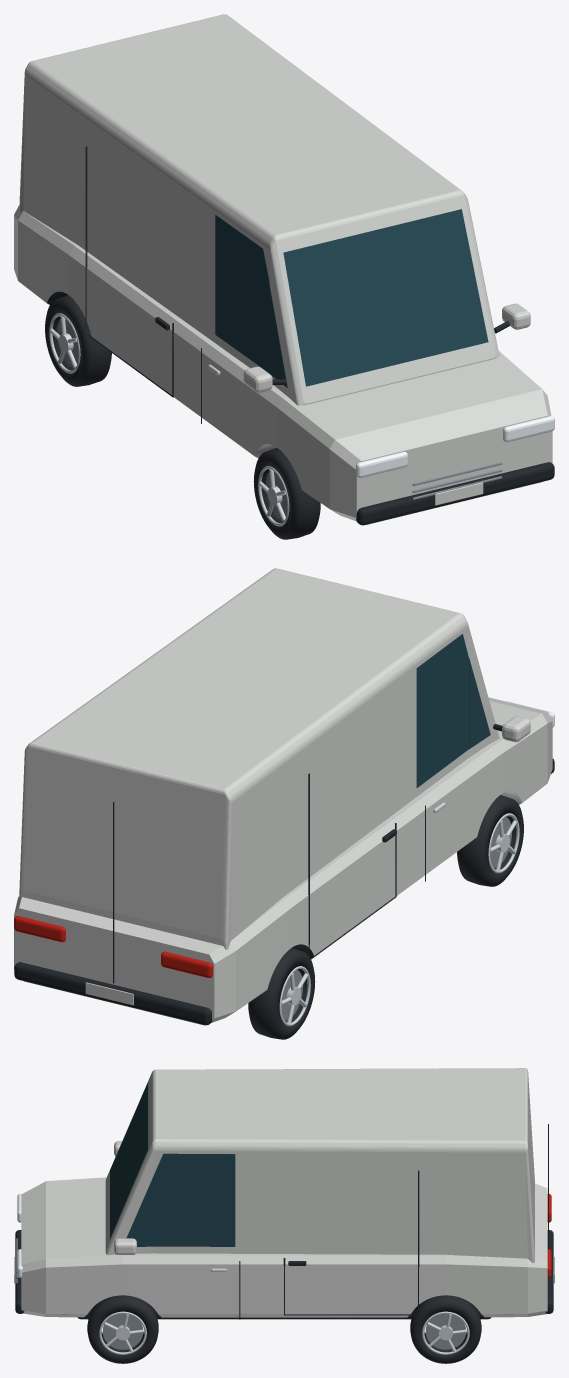
File: delivery-van.glb
3 renders of one model, top to bottom at view 1: azimuth 30°, elevation 25°; view 2: azimuth 150°, elevation 25°; view 3: azimuth 270°, elevation 25°, orthographic. The views are drawn at different scales.
Parts seen in each view (by area): view 1: Cab and roof, Coachwork lower body, Front windscreen, Front side glass.001, Bumper, Front_tire, Rear_tire, Front side glass, Headlamp.001, Headlamp, Sliding door outline; view 2: Cab and roof, Coachwork lower body, Front side glass.001, Bumper.001, Rear_tire, Front_tire, Front side glass, Tail lamp, Tail lamp.001, Sliding door outline, Blank registration panel.001, Mirror shell; view 3: Cab and roof, Coachwork lower body, Front side glass.003, Front windscreen, Front_tire.001, Rear_tire.001, Front side glass.002, Underbody, Front_brake.001, Rear_brake.001, Sliding door outline.001, Bumper.001 (+4 smaller).
Part boxes in pixels (x1,y1,x2,y2): Cab and roof: (19, 14, 499, 405); Coachwork lower body: (14, 205, 552, 524); Front windscreen: (283, 209, 488, 386); Front side glass.001: (215, 215, 269, 372); Bumper: (356, 462, 554, 525); Front_tire: (253, 448, 320, 539); Rear_tire: (45, 295, 111, 386); Front side glass: (269, 282, 287, 388); Headlamp.001: (503, 416, 554, 442); Headlamp: (356, 451, 407, 477); Sliding door outline: (85, 146, 173, 397); Cab and roof: (19, 568, 499, 949); Coachwork lower body: (14, 697, 552, 1025); Front side glass.001: (416, 634, 468, 787); Bumper.001: (14, 962, 212, 1025); Rear_tire: (248, 948, 315, 1039); Front_tire: (457, 795, 523, 886); Front side glass: (469, 658, 490, 749); Tail lamp: (161, 951, 212, 977); Tail lamp.001: (14, 916, 65, 942); Sliding door outline: (308, 773, 396, 959); Blank registration panel.001: (85, 982, 133, 1005); Mirror shell: (502, 716, 530, 742); Cab and roof: (105, 1068, 534, 1263); Coachwork lower body: (21, 1177, 547, 1317); Front side glass.003: (153, 1153, 235, 1246); Front windscreen: (110, 1082, 148, 1238); Front_tire.001: (87, 1295, 158, 1363); Rear_tire.001: (410, 1295, 481, 1363); Front side glass.002: (126, 1177, 153, 1246); Underbody: (77, 1307, 491, 1319); Front_brake.001: (102, 1314, 143, 1349); Rear_brake.001: (425, 1314, 465, 1349); Sliding door outline.001: (283, 1170, 419, 1315); Bumper.001: (545, 1230, 553, 1313).
Bounding box in the file's own units: 2.48 × 2.42 × 5.45.
